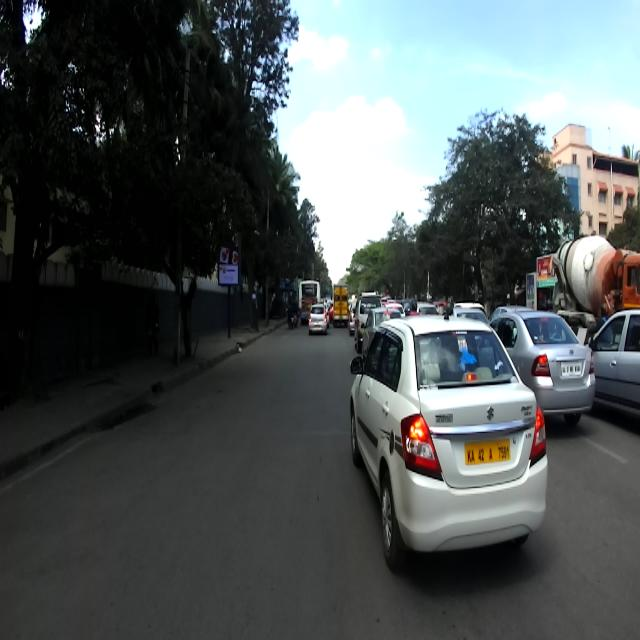car ahead at: (342, 316, 555, 578)
